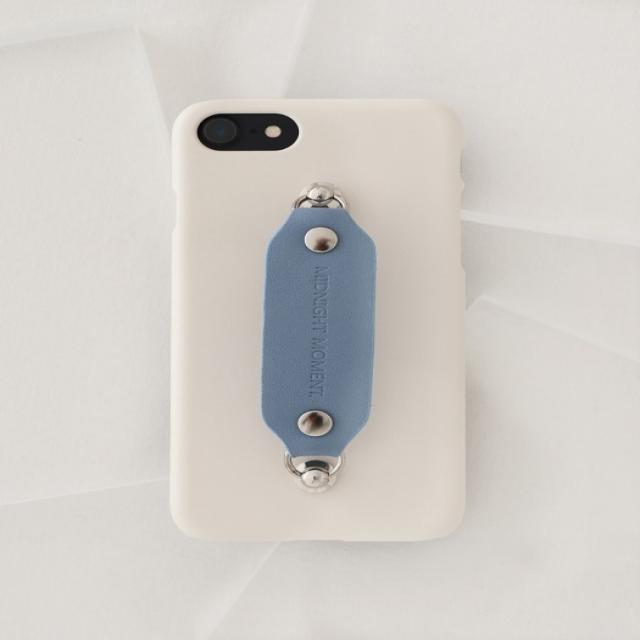phone: (174, 98, 465, 543)
